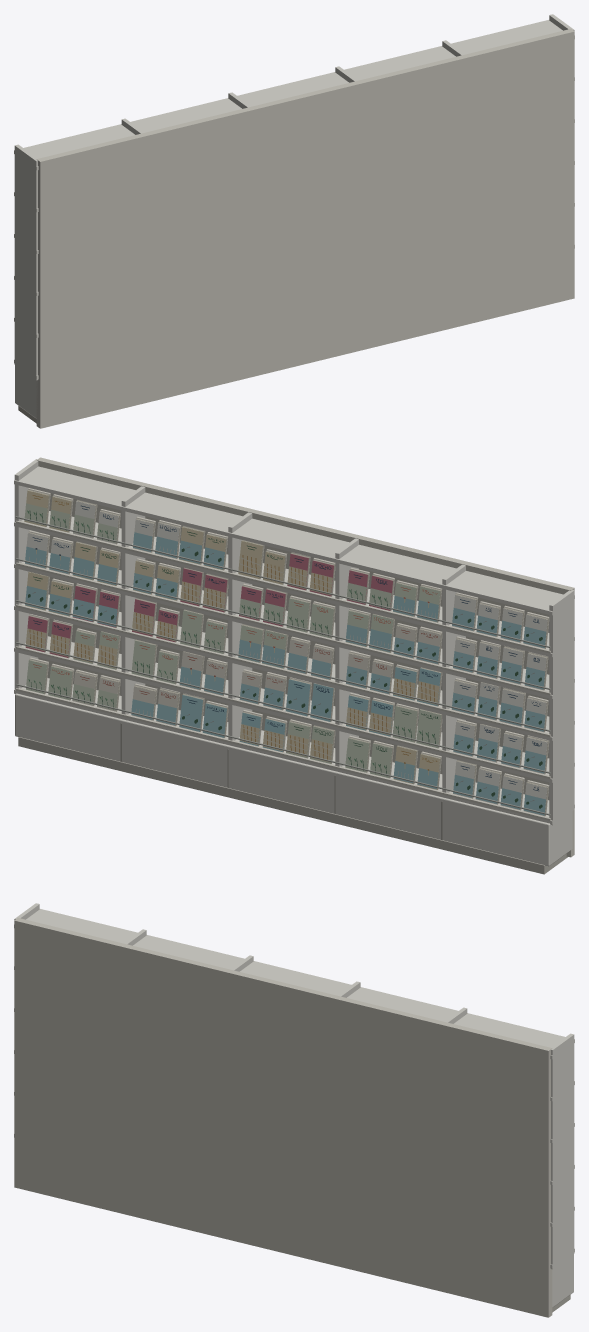
Rendered from shelf.glb.
The picture shows the model from 3 angles, top to bottom: view 1: azimuth 30°, elevation 25°; view 2: azimuth 150°, elevation 25°; view 3: azimuth 330°, elevation 25°; orthographic projection.
Parts seen in each view (by area): view 1: SebitInformation_shelf; view 2: SebitInformation_shelf; view 3: SebitInformation_shelf.
Boxes of the visible parts, x1,y1,x2,y2 form: SebitInformation_shelf: (14, 14, 574, 428); SebitInformation_shelf: (14, 457, 574, 874); SebitInformation_shelf: (14, 903, 574, 1317).
Bounding box in the file's own units: 5.09 × 2.42 × 0.429.
